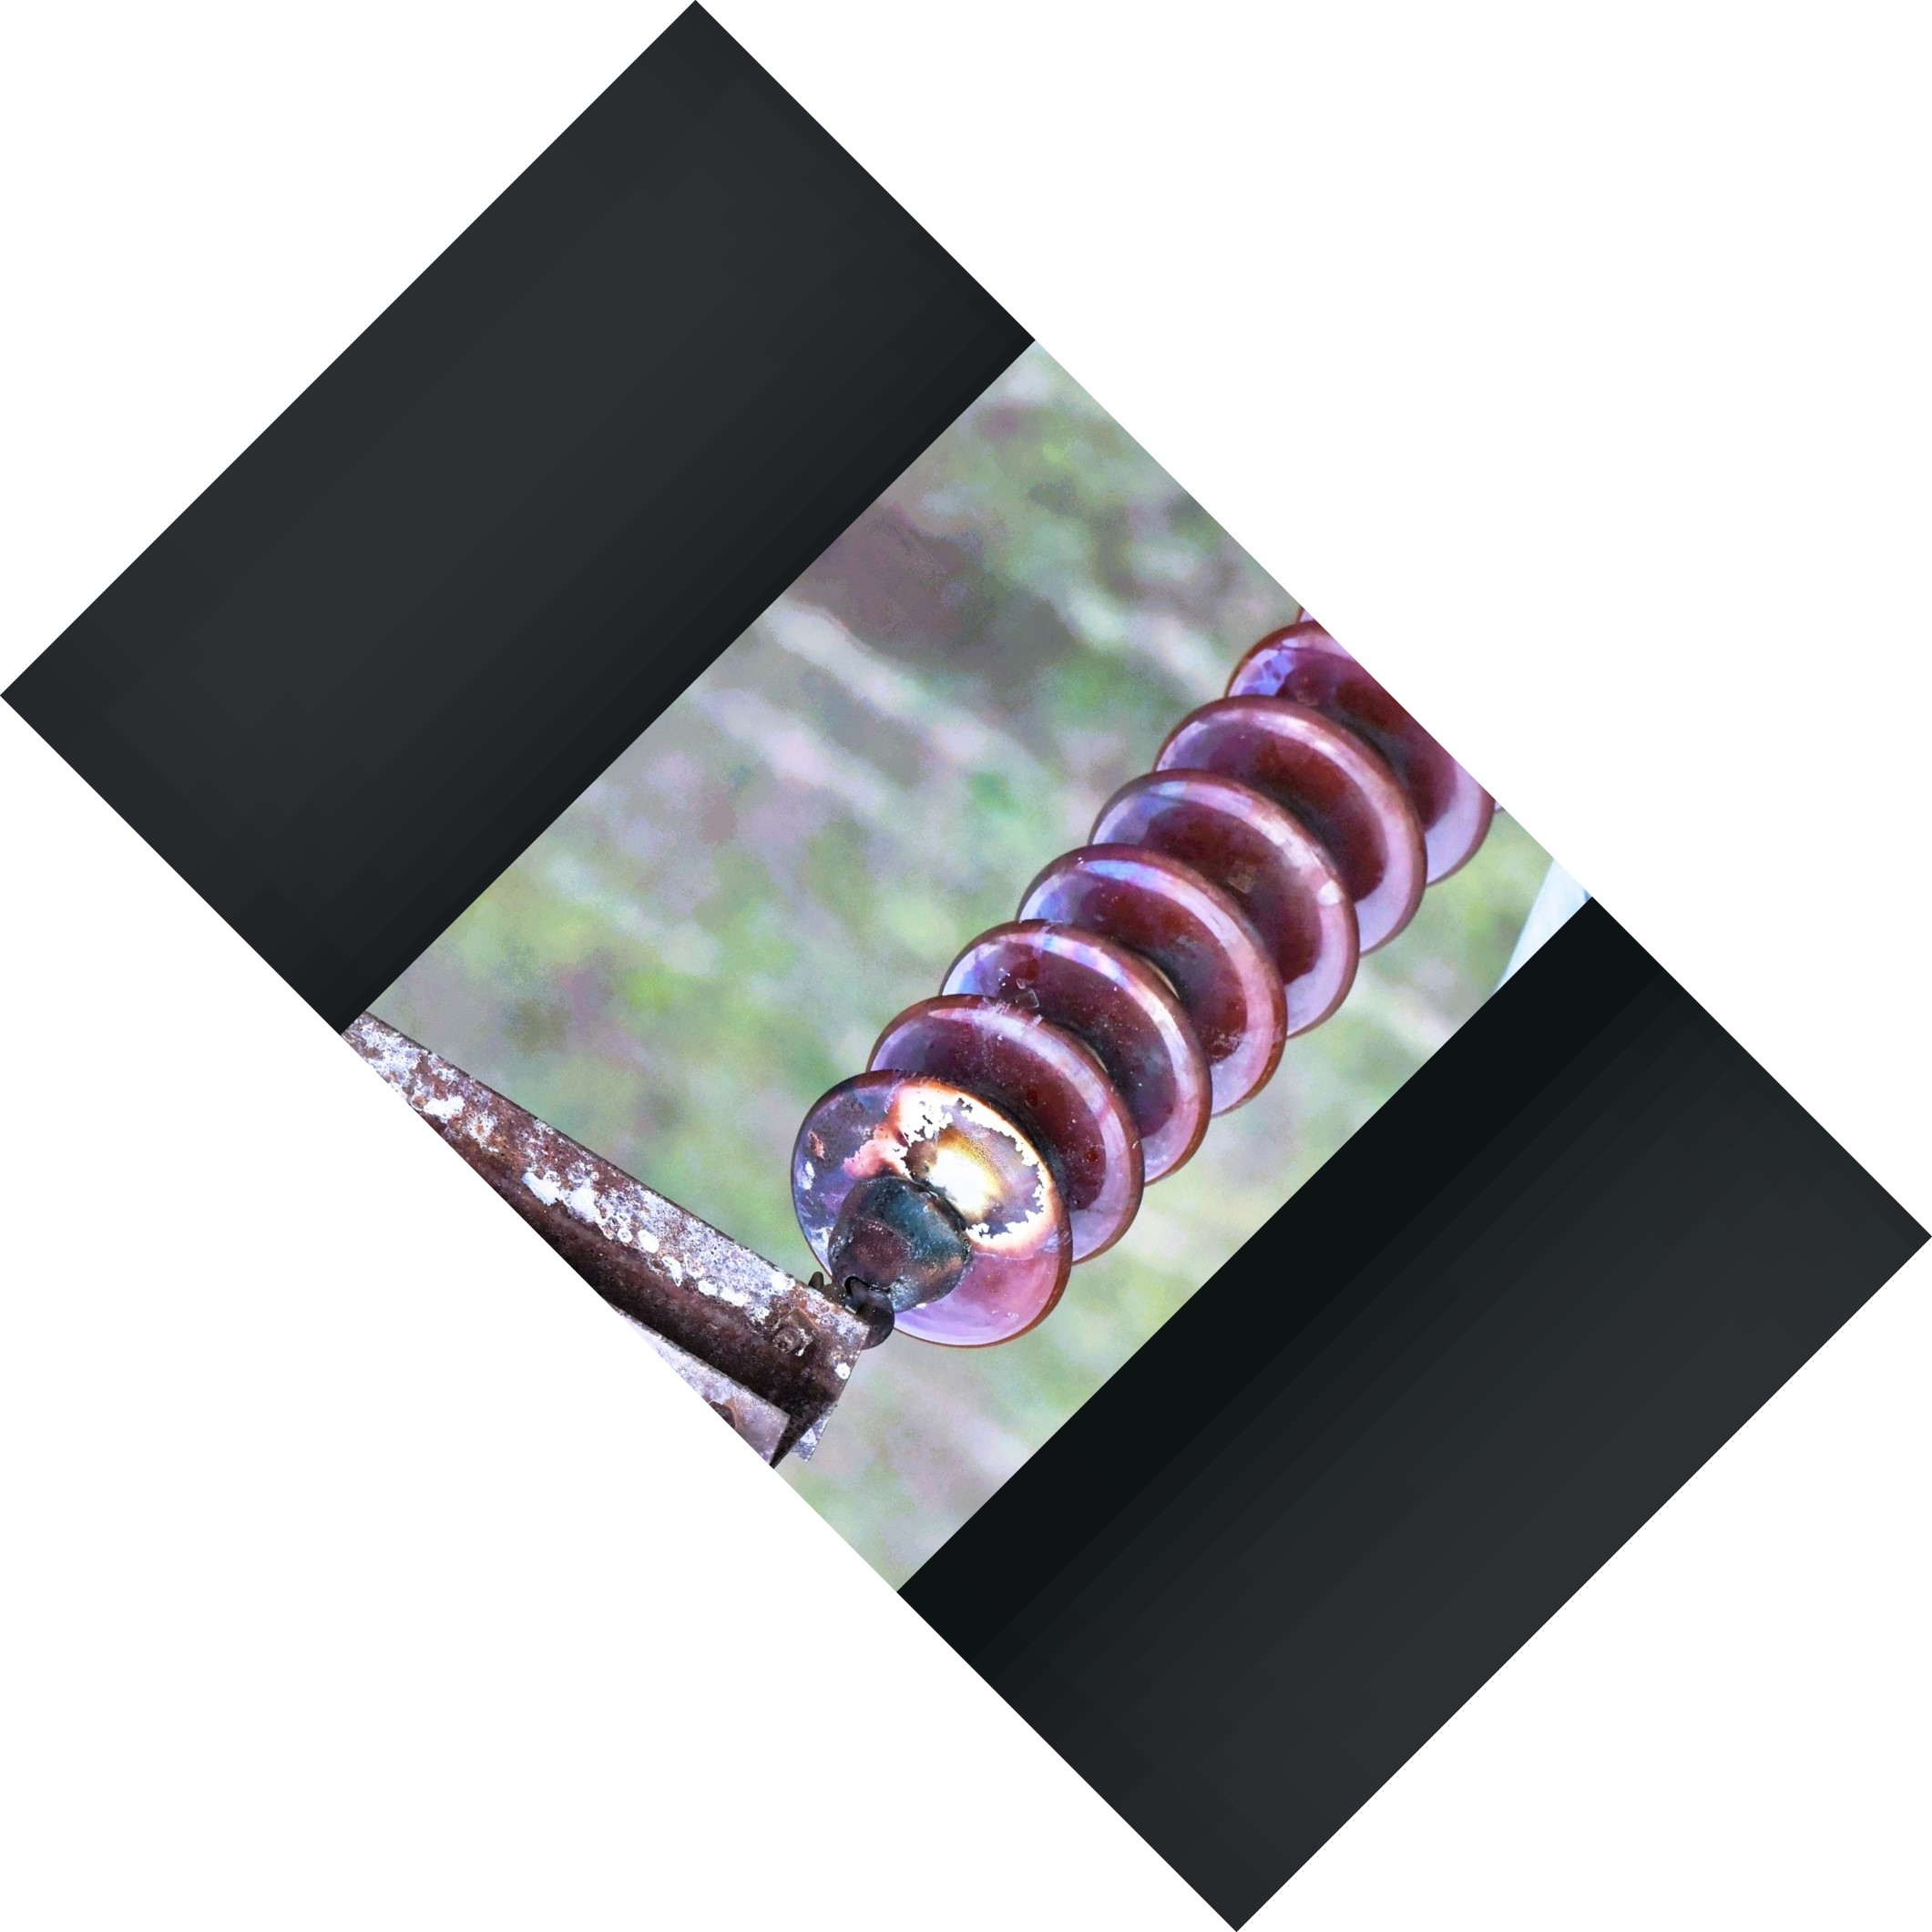Insulator flashover: (763, 1054, 1083, 1376)
